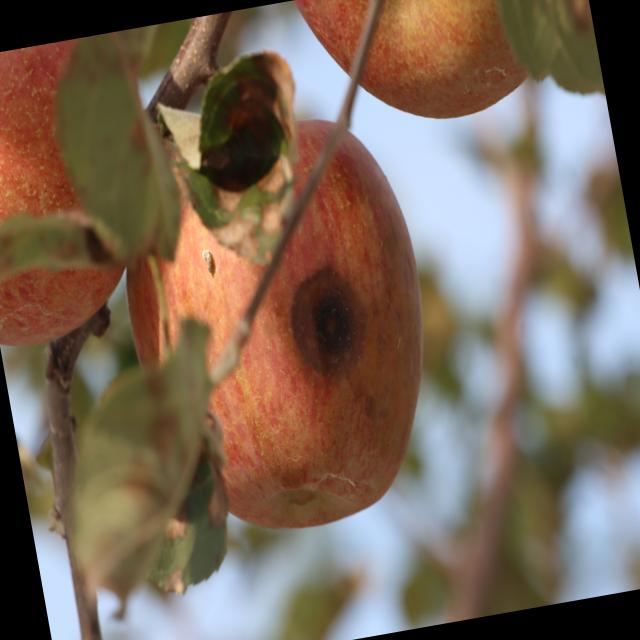rotten: (98, 93, 464, 556)
